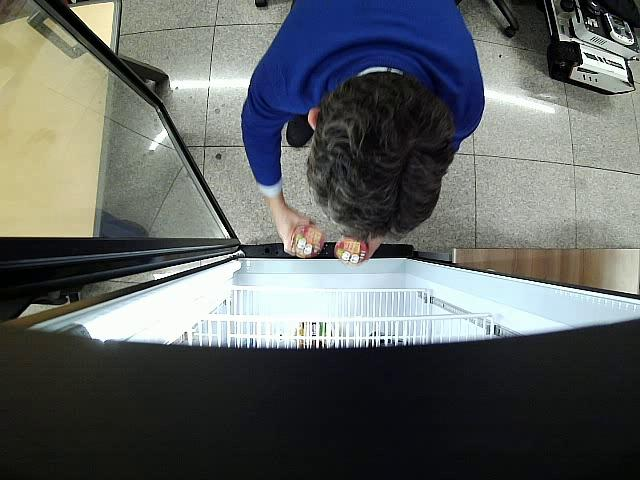00_hand: (266, 200, 314, 256)
06_nuguri_S: (334, 235, 368, 265), (294, 226, 325, 258)
